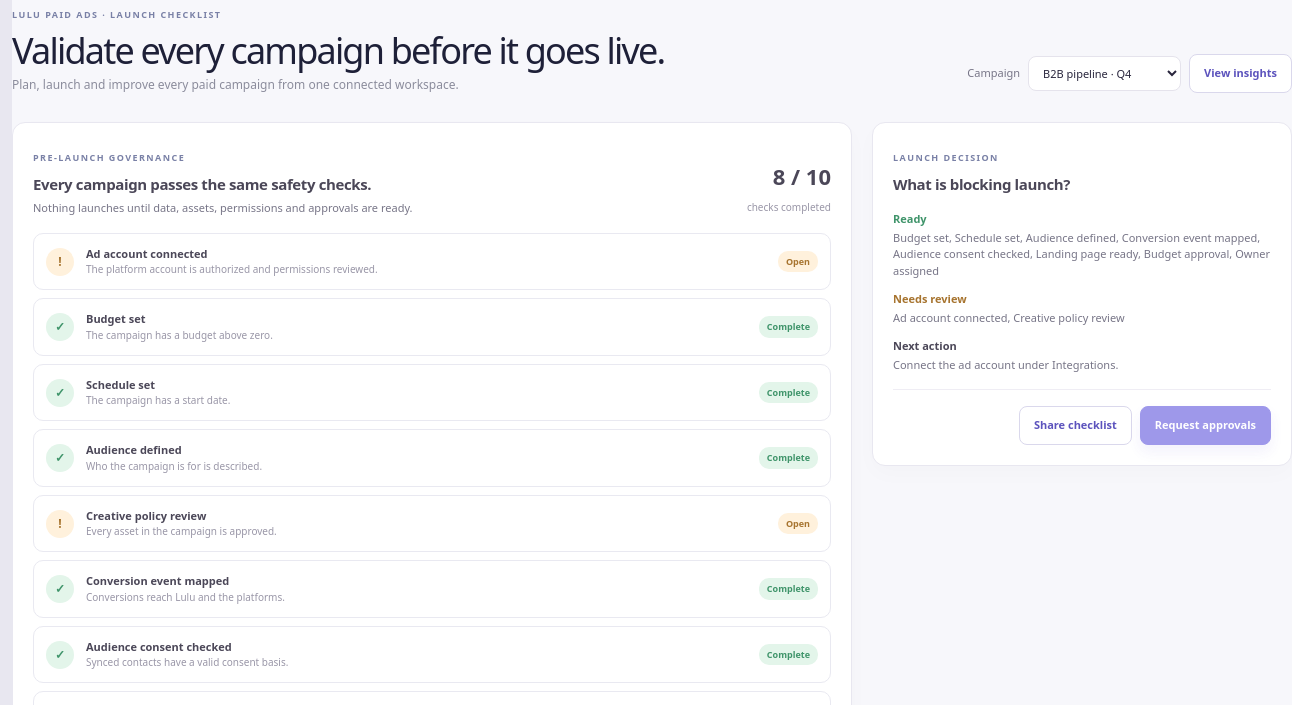
Launch Checklist › asks for the budget approval of a campaign above the threshold
This screenshot has width=1292, height=705.
Expected: the text "8 / 10" is shown, top-left (773, 161), bottom-right (831, 191)
Select "Spring launch · Berlin" in the dropdown labelled "Campaign" at (1105, 73), box top-left (1028, 56), bottom-right (1181, 91)
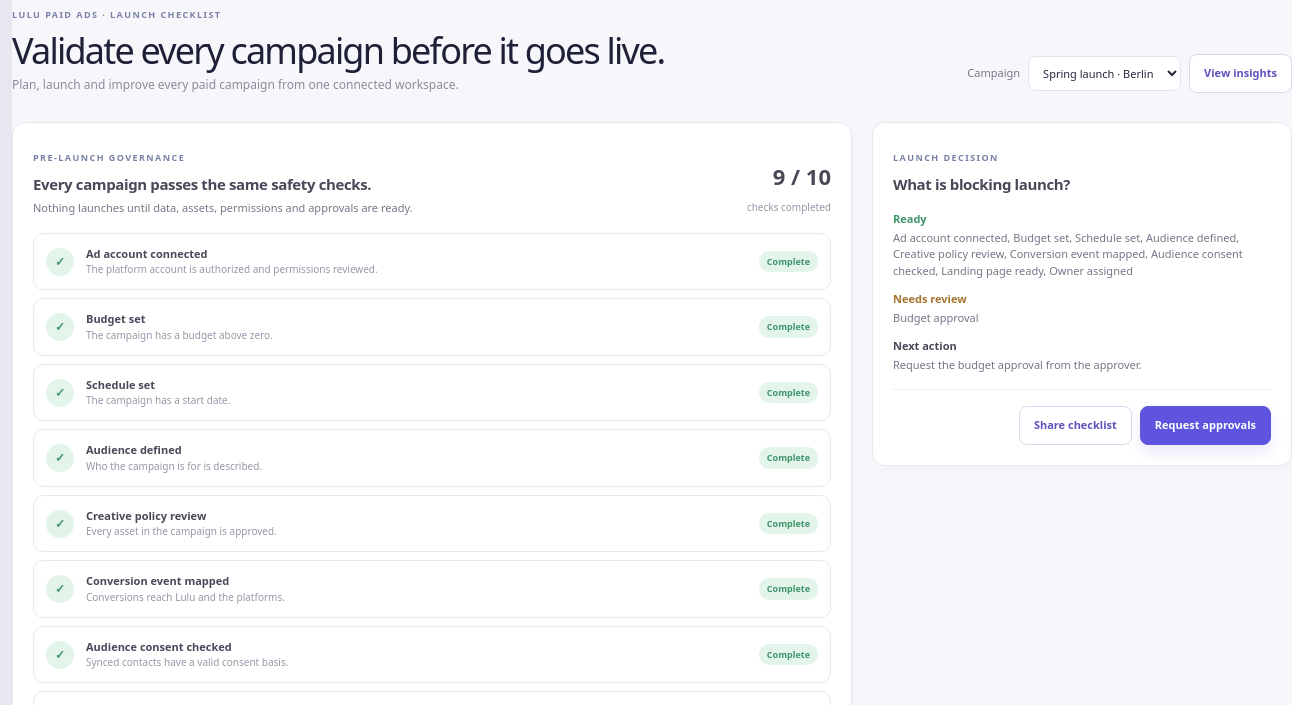
Expected: the text "9 / 10" is shown, top-left (773, 161), bottom-right (831, 191)
Click the button "Request approvals".
click(1205, 425)  # box top-left (1140, 406), bottom-right (1271, 445)
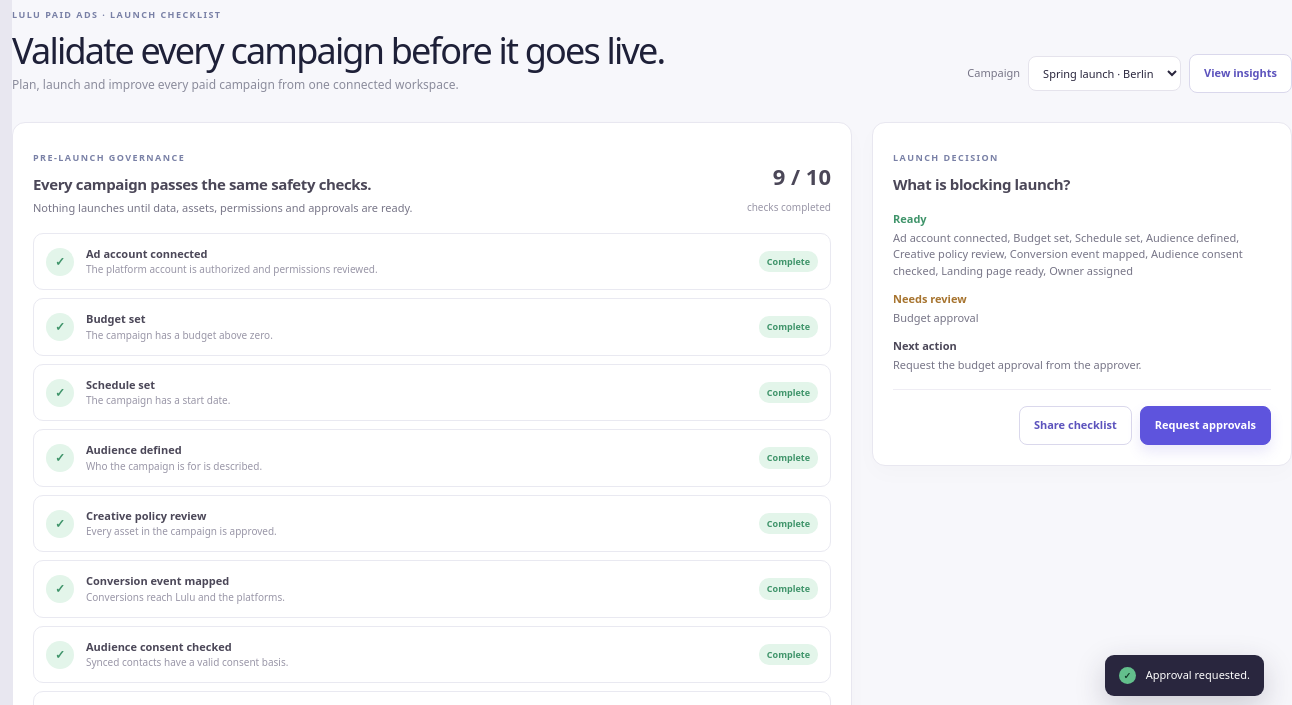
Expected: the text "Approval requested." is shown, top-left (1146, 667), bottom-right (1250, 682)
